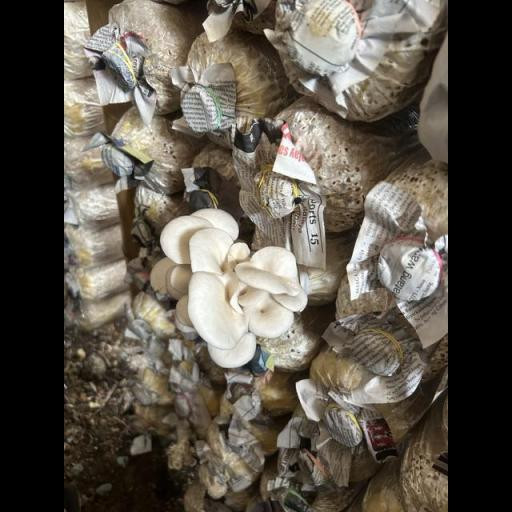White Oyster Mushroom: (133, 194, 329, 388)
